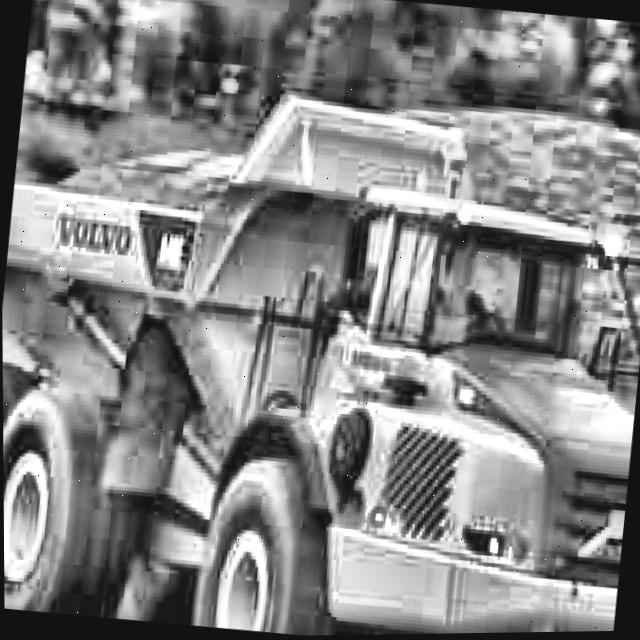dump_truck: (0, 56, 640, 640)
